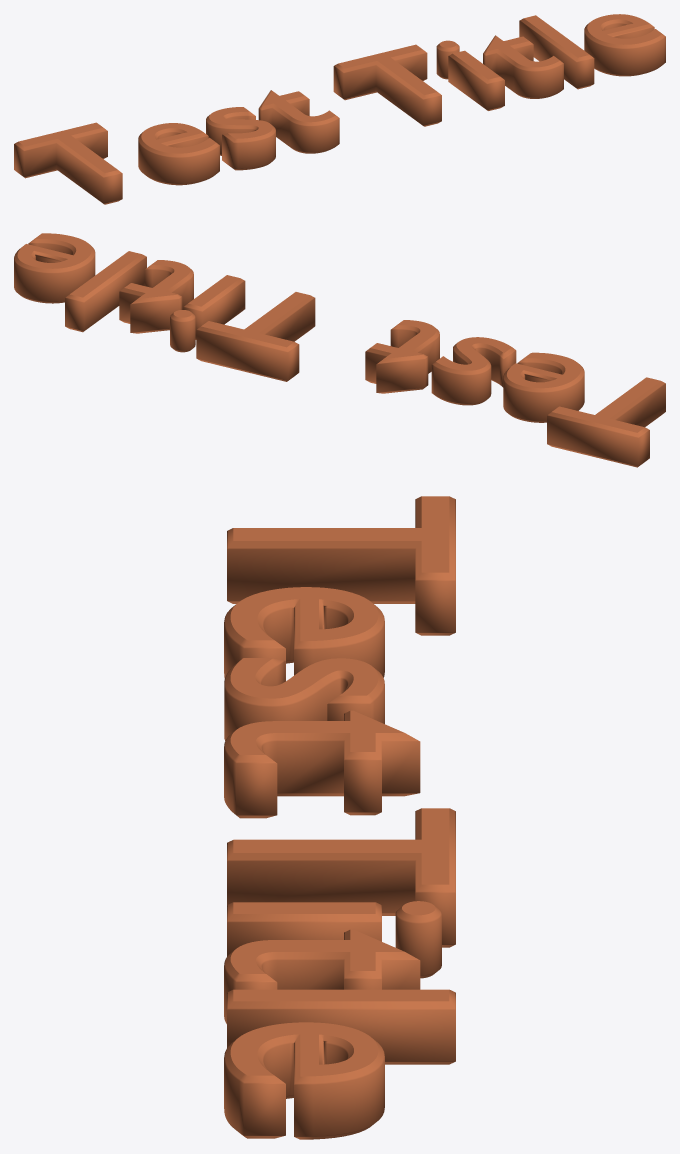
File: Title.obj
3 views of the same model, one above another, from view 1: azimuth 30°, elevation 25°; view 2: azimuth 150°, elevation 25°; view 3: azimuth 270°, elevation 25° (orthographic). The views are drawn at different scales.
Visible parts, largest first — view 1: テキスト; view 2: テキスト; view 3: テキスト.
Boxes of the visible parts, <box> form: テキスト: <box>14,14,665,204</box>; テキスト: <box>14,233,665,467</box>; テキスト: <box>224,496,455,1139</box>.
Size of the model in its own units: 4.37 by 0.22 by 0.731.
1 material, 1 textured.
